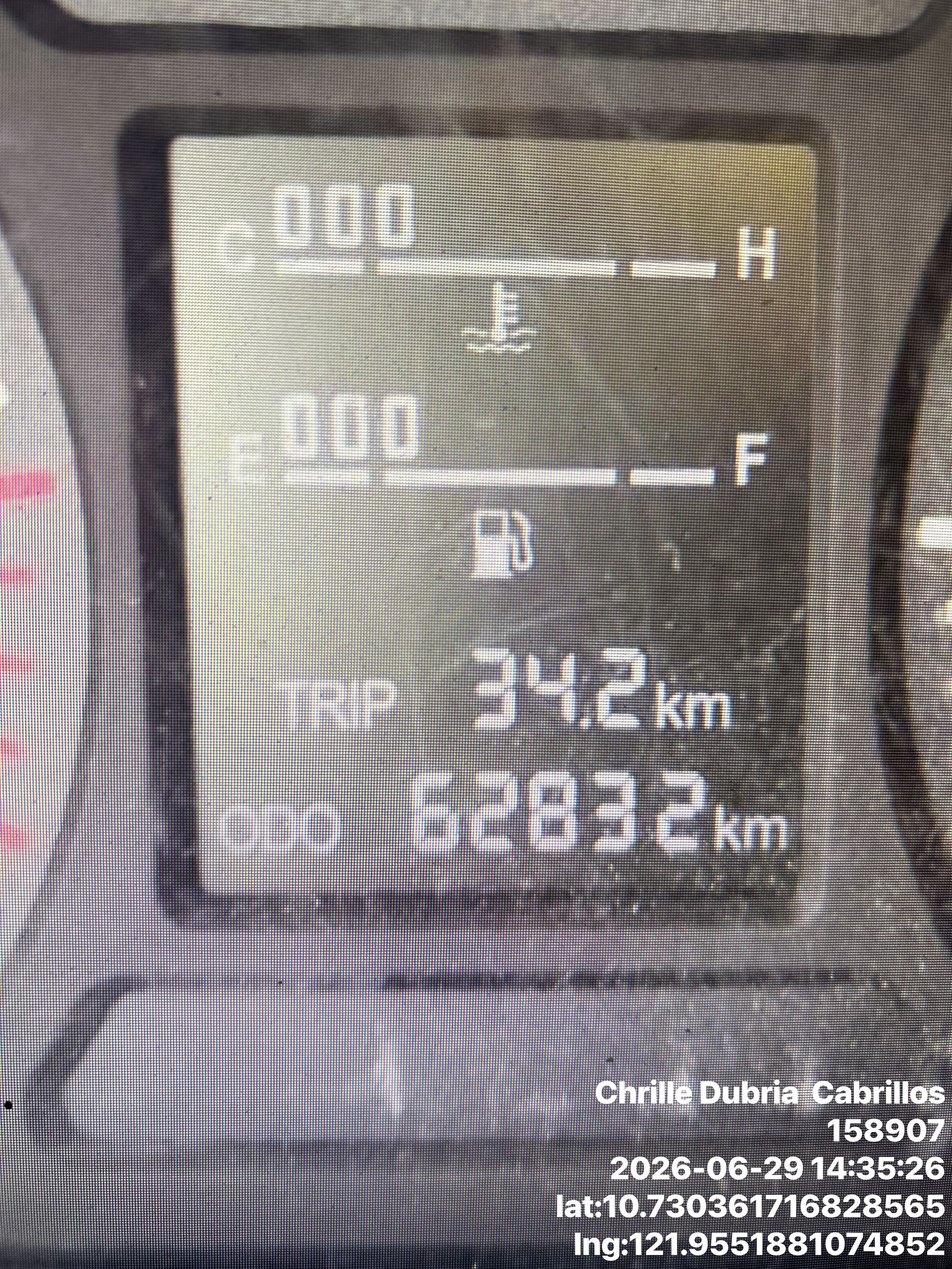grid_pose: (285, 242, 713, 482)
